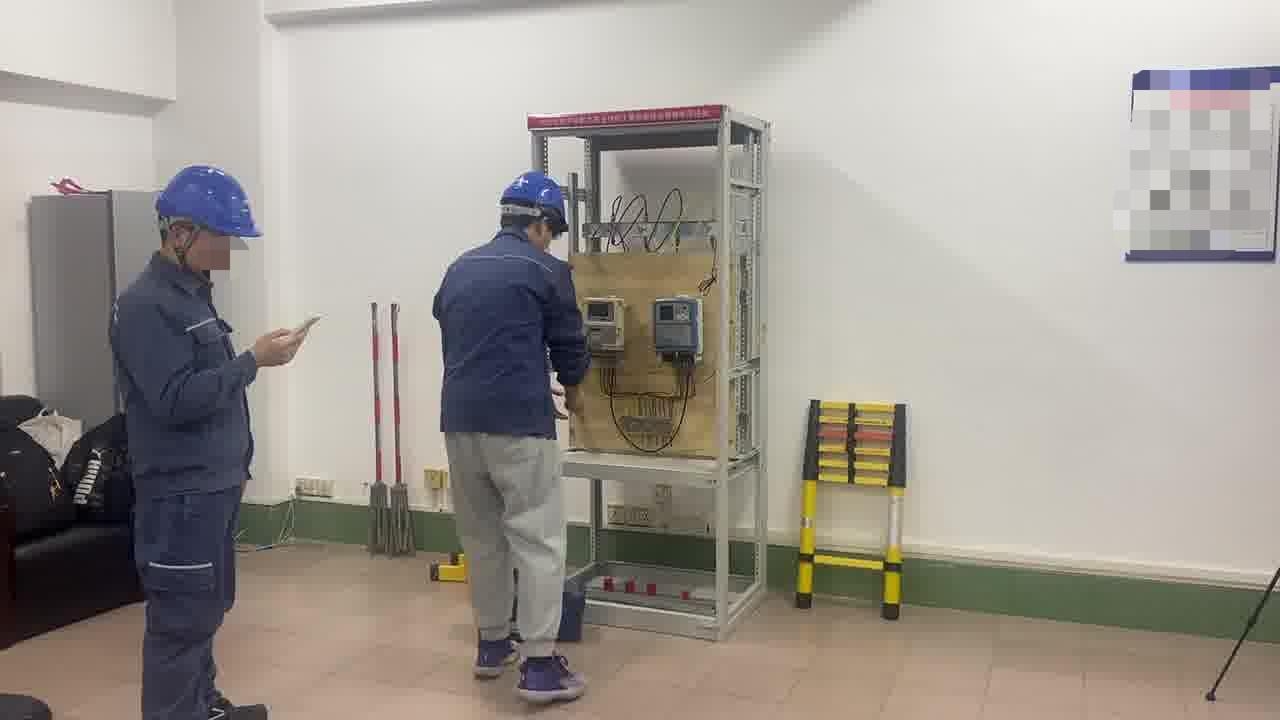halt: (155, 168, 263, 279), (501, 172, 572, 242)
inear: (167, 219, 204, 261)
noear: (532, 213, 555, 247)
